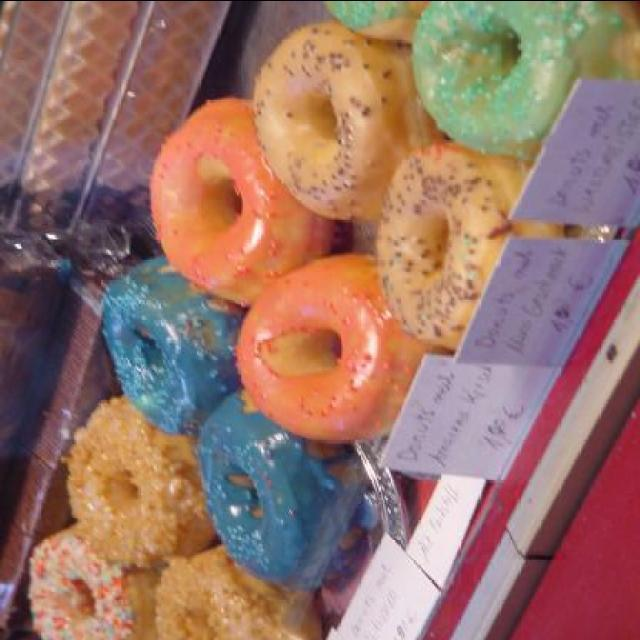Bagel: (148, 93, 344, 307), (374, 138, 572, 348), (235, 248, 447, 444), (251, 21, 440, 222), (409, 1, 633, 162), (199, 388, 370, 588), (102, 252, 256, 434), (62, 394, 222, 566), (27, 521, 178, 639), (152, 543, 326, 640), (320, 0, 443, 42)
